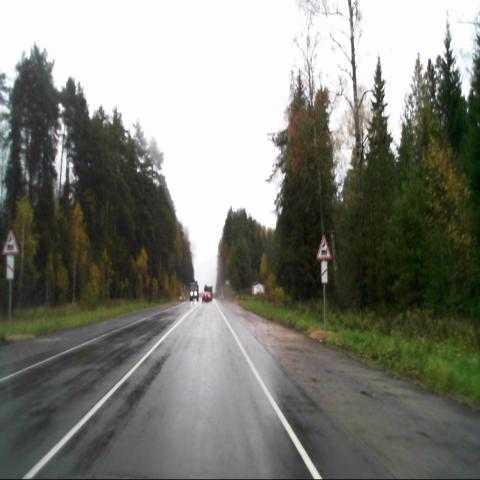1_2: (316, 236, 332, 260)
